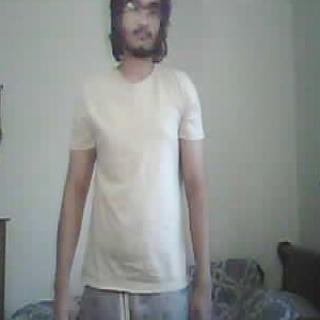Yellow T-Shirt: (70, 59, 202, 292)
